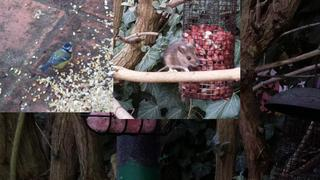blue tit: (40, 40, 73, 72)
mouse: (140, 40, 200, 85)
